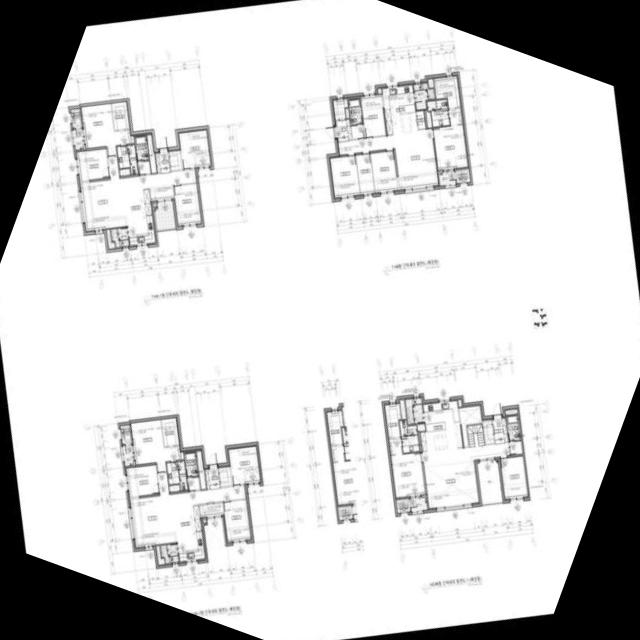background: (0, 0, 640, 640)
space_balconi: (477, 461, 503, 504), (154, 203, 176, 230), (405, 398, 424, 424), (111, 228, 129, 247), (161, 544, 179, 563), (410, 498, 428, 512), (439, 172, 456, 186), (73, 129, 84, 150), (123, 445, 134, 466)
space_bedroom: (81, 104, 132, 156), (131, 420, 181, 472), (433, 108, 469, 170), (389, 438, 426, 498), (179, 129, 211, 169), (330, 156, 360, 198), (229, 446, 261, 485), (223, 500, 252, 542), (371, 151, 399, 193), (174, 184, 202, 226), (501, 456, 528, 499), (361, 95, 386, 137), (77, 149, 109, 181), (127, 465, 159, 497)
space_dressroom: (434, 76, 461, 109), (385, 404, 401, 438), (112, 102, 130, 130), (161, 418, 179, 446)
space_front: (335, 119, 352, 142), (493, 418, 508, 444), (205, 466, 221, 490), (156, 152, 171, 173)
space_kitchen: (421, 401, 463, 452), (382, 85, 418, 135), (124, 189, 155, 245), (174, 506, 205, 562)
space_living_room: (130, 473, 247, 547), (81, 157, 197, 231), (338, 129, 439, 190), (422, 443, 510, 508)
space_other: (460, 406, 482, 447), (356, 154, 375, 194), (467, 424, 485, 447), (150, 185, 174, 201), (147, 135, 157, 173), (197, 451, 206, 489), (200, 503, 224, 517), (333, 99, 348, 120), (483, 420, 495, 444), (219, 466, 232, 487), (169, 151, 182, 171), (351, 125, 365, 139), (509, 441, 523, 455), (138, 161, 151, 175), (187, 477, 200, 491), (106, 230, 115, 250), (417, 111, 426, 129), (157, 546, 165, 565), (400, 400, 406, 419), (426, 110, 432, 128), (506, 409, 518, 415), (428, 78, 434, 88), (417, 424, 425, 431), (346, 109, 350, 118), (458, 400, 462, 407), (181, 452, 184, 460), (131, 136, 134, 143), (378, 89, 382, 94), (203, 519, 206, 523), (154, 203, 156, 207)
space_outdoor_room: (120, 425, 132, 444), (456, 169, 471, 184), (396, 499, 411, 514), (71, 109, 82, 128)
space_toilet: (400, 420, 420, 453), (117, 145, 138, 176), (167, 461, 188, 492), (427, 99, 450, 127), (414, 83, 435, 110), (349, 99, 363, 125), (185, 452, 199, 478), (507, 415, 521, 441), (135, 136, 149, 161)
